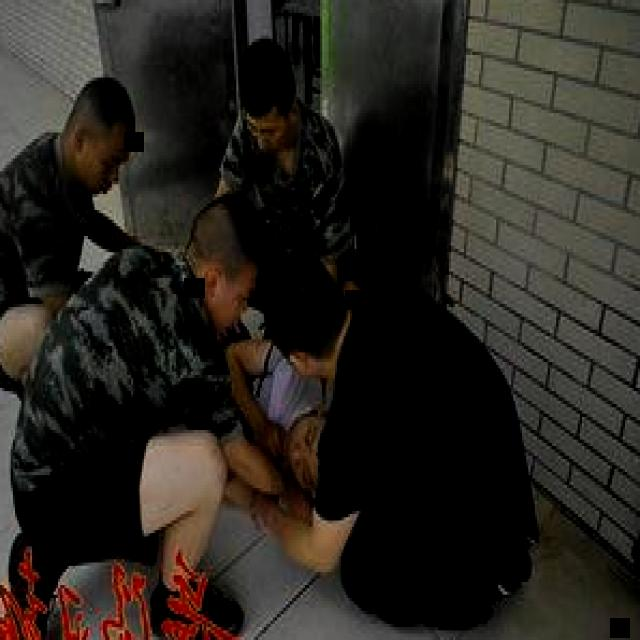Fall-Detected: (210, 310, 362, 536)
